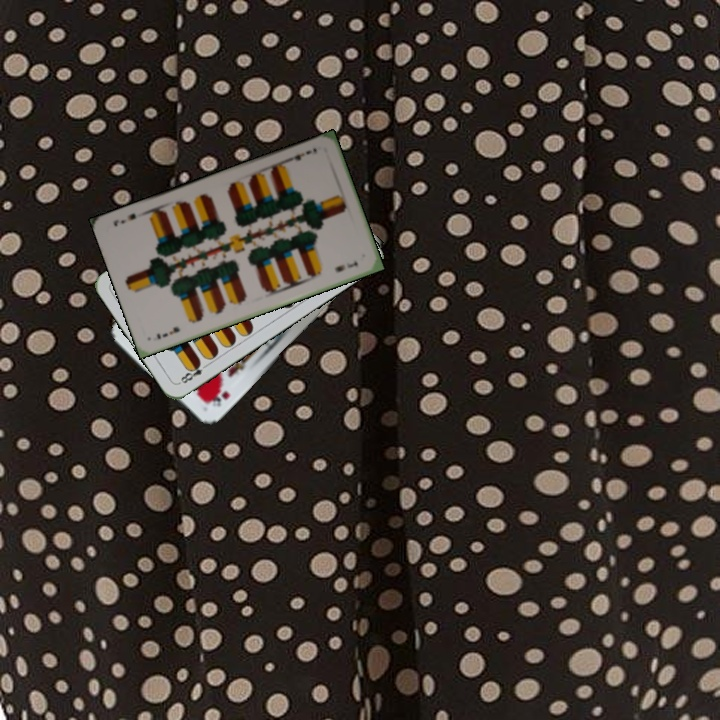E7: (284, 143, 320, 165), (152, 323, 182, 342)
E8: (175, 358, 212, 386)
HK: (203, 386, 232, 409)
